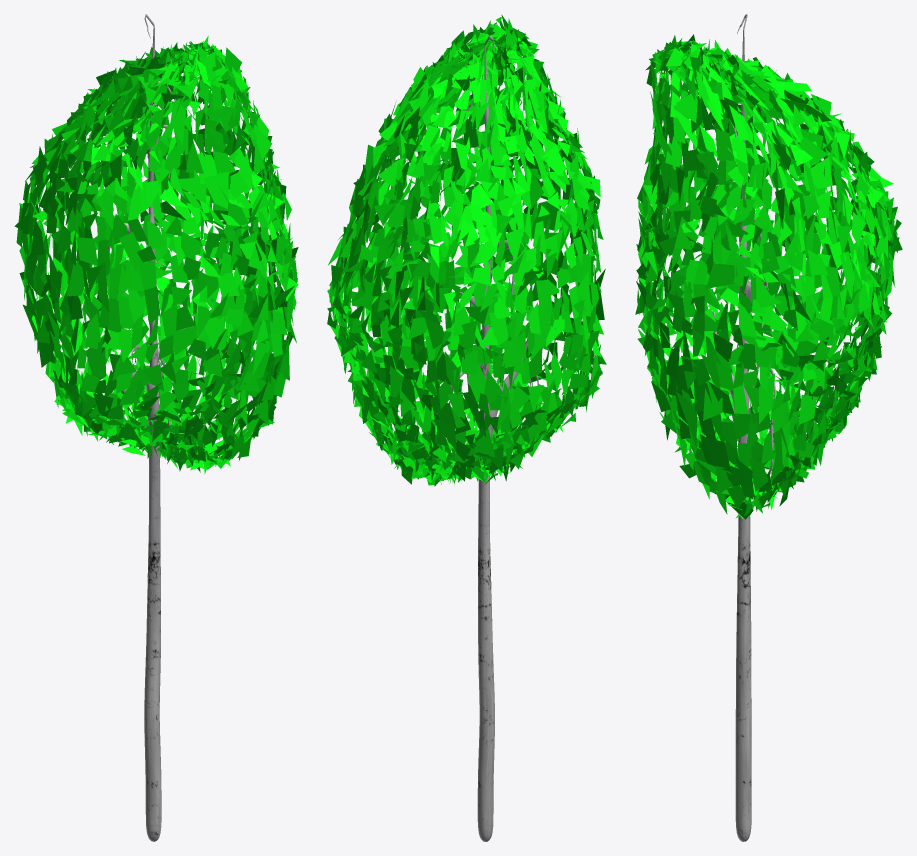
Rendered from Leaves61.001.fbx.
3 views of the same model, side by side, from view 1: azimuth 30°, elevation 25°; view 2: azimuth 150°, elevation 25°; view 3: azimuth 270°, elevation 25° (orthographic). The views are drawn at different scales.
Parts seen in each view (by area): view 1: Leaves61.001; view 2: Leaves61.001; view 3: Leaves61.001.
Part boxes in pixels (<box>): Leaves61.001: <box>14,14,298,841</box>; Leaves61.001: <box>327,14,606,841</box>; Leaves61.001: <box>635,14,902,841</box>.
Bounding box in the file's own units: 795 × 2612 × 768.
2 materials, 1 textured.
